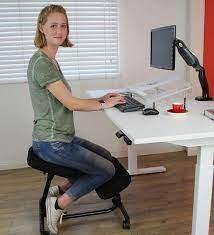Good Sitting Posture: (23, 3, 130, 233)
